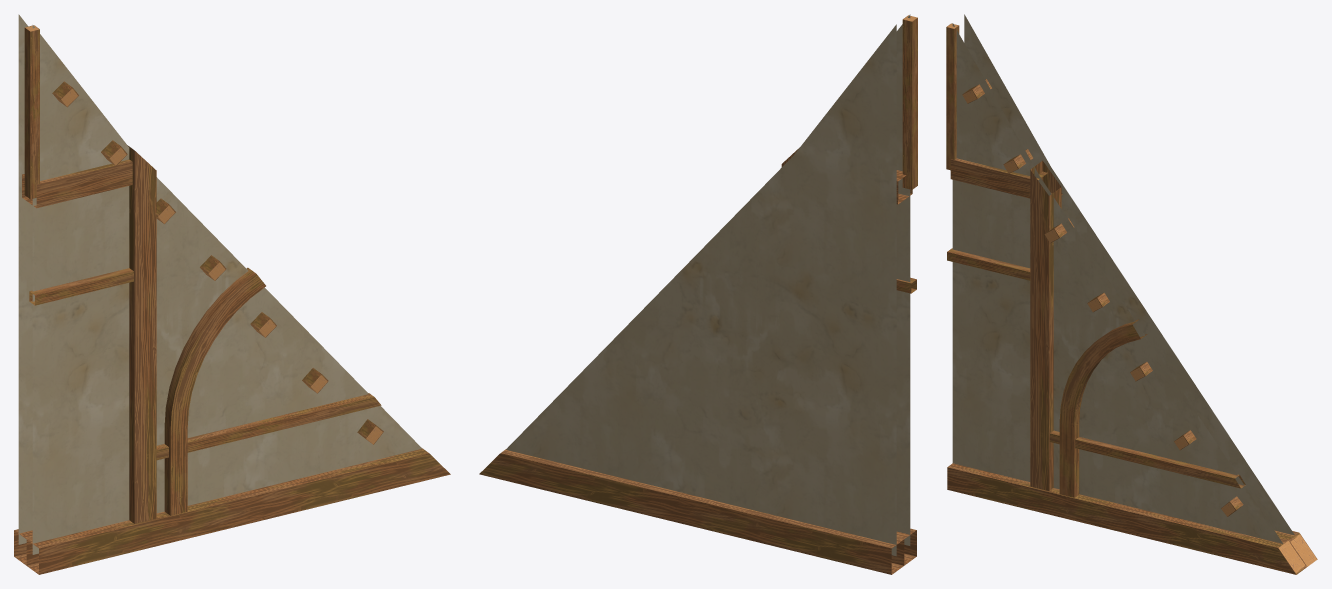
The model's file is Roof_Front_Brick8_Half_R.gltf.
3 views of the same model, side by side, from view 1: azimuth 30°, elevation 25°; view 2: azimuth 150°, elevation 25°; view 3: azimuth 330°, elevation 25° (orthographic). The views are drawn at different scales.
Visible parts, largest first — view 1: Roof_Front_Brick8_Half_R; view 2: Roof_Front_Brick8_Half_R; view 3: Roof_Front_Brick8_Half_R.
Part boxes in pixels (bbox=[...]): Roof_Front_Brick8_Half_R: bbox=[14, 14, 450, 574]; Roof_Front_Brick8_Half_R: bbox=[479, 14, 917, 574]; Roof_Front_Brick8_Half_R: bbox=[946, 14, 1317, 574].
Size of the model in its own units: 4.35 by 5.45 by 0.4896.
2 materials, 2 textured.
